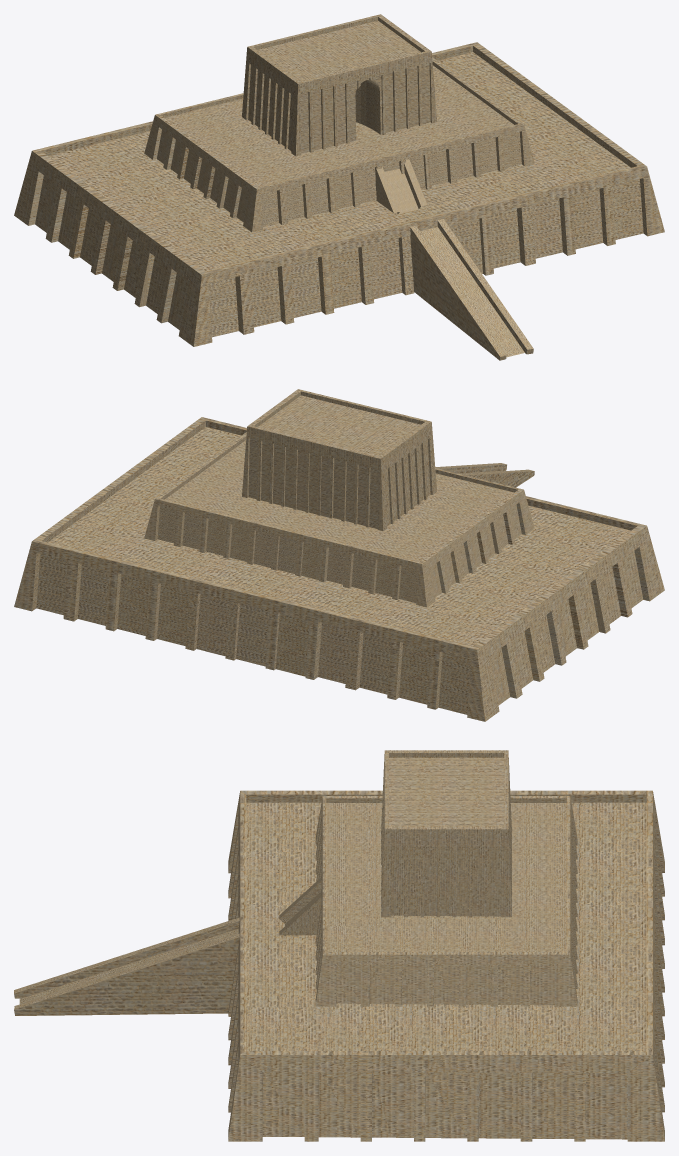
The model's file is SumeriaTownCenter.fbx.
The picture shows the model from 3 angles, top to bottom: view 1: azimuth 30°, elevation 25°; view 2: azimuth 150°, elevation 25°; view 3: azimuth 270°, elevation 25°; orthographic projection. The views are drawn at different scales.
Parts seen in each view (by area): view 1: base1, base1_001, base3, Cube_000, Cube_002; view 2: base1, base1_001, base3, Cube_000; view 3: base1, base1_001, base3, Cube_000, Cube_002.
Boxes of the visible parts, x1,y1,x2,y2 form: base1: (14,42,664,346); base1_001: (144,57,534,232); base3: (242,14,436,156); Cube_000: (410,219,533,360); Cube_002: (375,159,427,214); base1: (14,417,664,721); base1_001: (144,432,534,607); base3: (242,389,436,530); Cube_000: (435,463,534,487); base1: (228,790,664,1141); base1_001: (315,796,577,1006); base3: (381,750,511,917); Cube_000: (14,917,239,1015); Cube_002: (279,878,321,936).
Size of the model in its own units: 6 by 2.17 by 5.91.
Materials: 1 (1 with a texture image).
